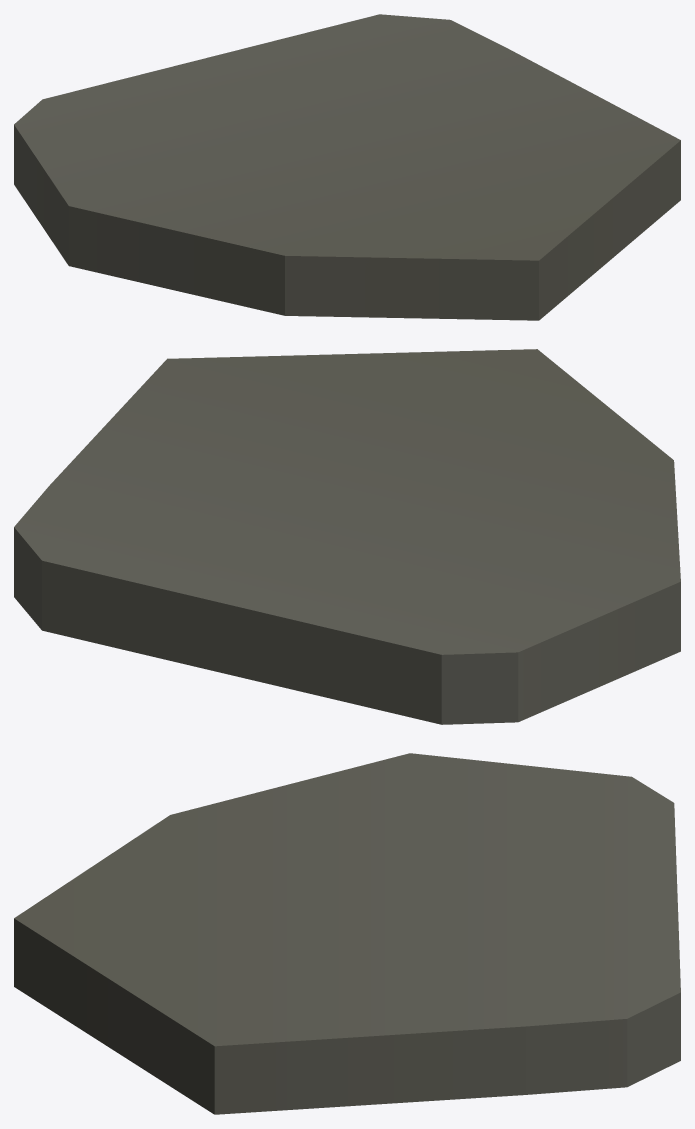
File: Tile_05.fbx
The picture shows the model from 3 angles, top to bottom: view 1: azimuth 30°, elevation 25°; view 2: azimuth 150°, elevation 25°; view 3: azimuth 270°, elevation 25°; orthographic projection. The views are drawn at different scales.
Visible parts, largest first — view 1: Tile_05; view 2: Tile_05; view 3: Tile_05.
Part boxes in pixels (x1,y1,x2,y2): Tile_05: (14, 14, 680, 320); Tile_05: (14, 349, 680, 724); Tile_05: (14, 753, 680, 1114).
Size of the model in its own units: 0.3454 by 0.0377 by 0.3321.
